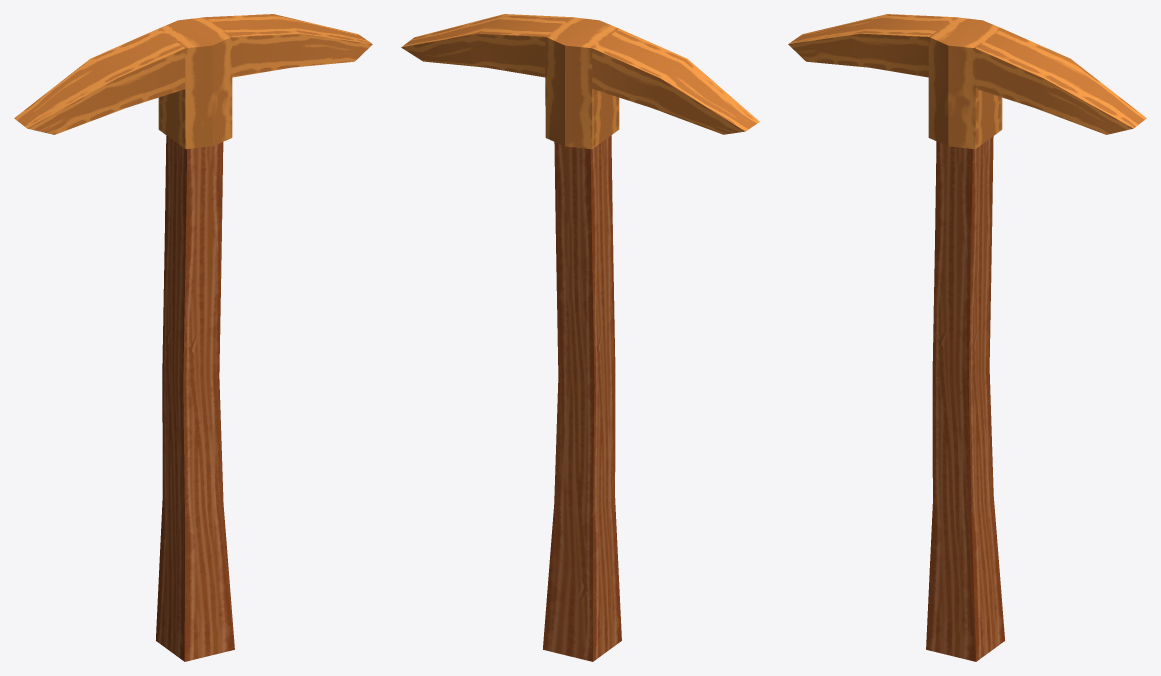
Rendered from pickaxe.fbx.
3 renders of one model, left to right at view 1: azimuth 30°, elevation 25°; view 2: azimuth 150°, elevation 25°; view 3: azimuth 330°, elevation 25°, orthographic.
Parts seen in each view (by area): view 1: Cube.006; view 2: Cube.006; view 3: Cube.006.
Boxes of the visible parts, x1,y1,x2,y2 form: Cube.006: [14, 14, 372, 661]; Cube.006: [401, 14, 759, 661]; Cube.006: [788, 14, 1146, 661].
Bounding box in the file's own units: 0.4483 × 0.7588 × 0.0775.
